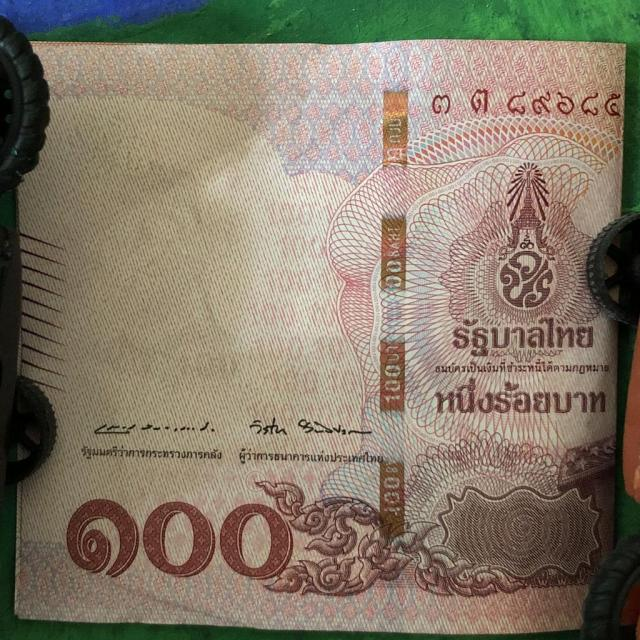THAI100: (16, 40, 625, 634)
